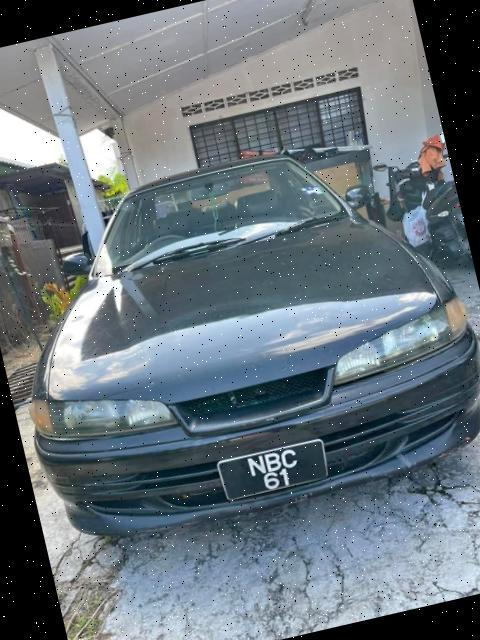License_Plate: (216, 433, 328, 507)
